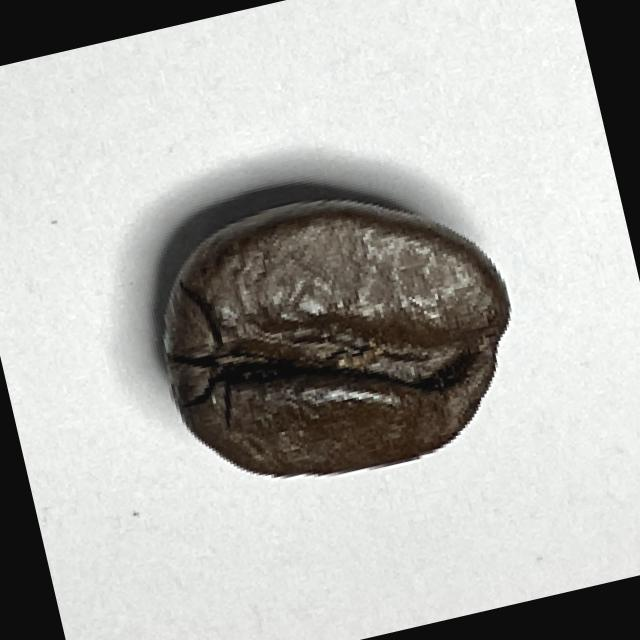bean: (134, 162, 543, 512)
